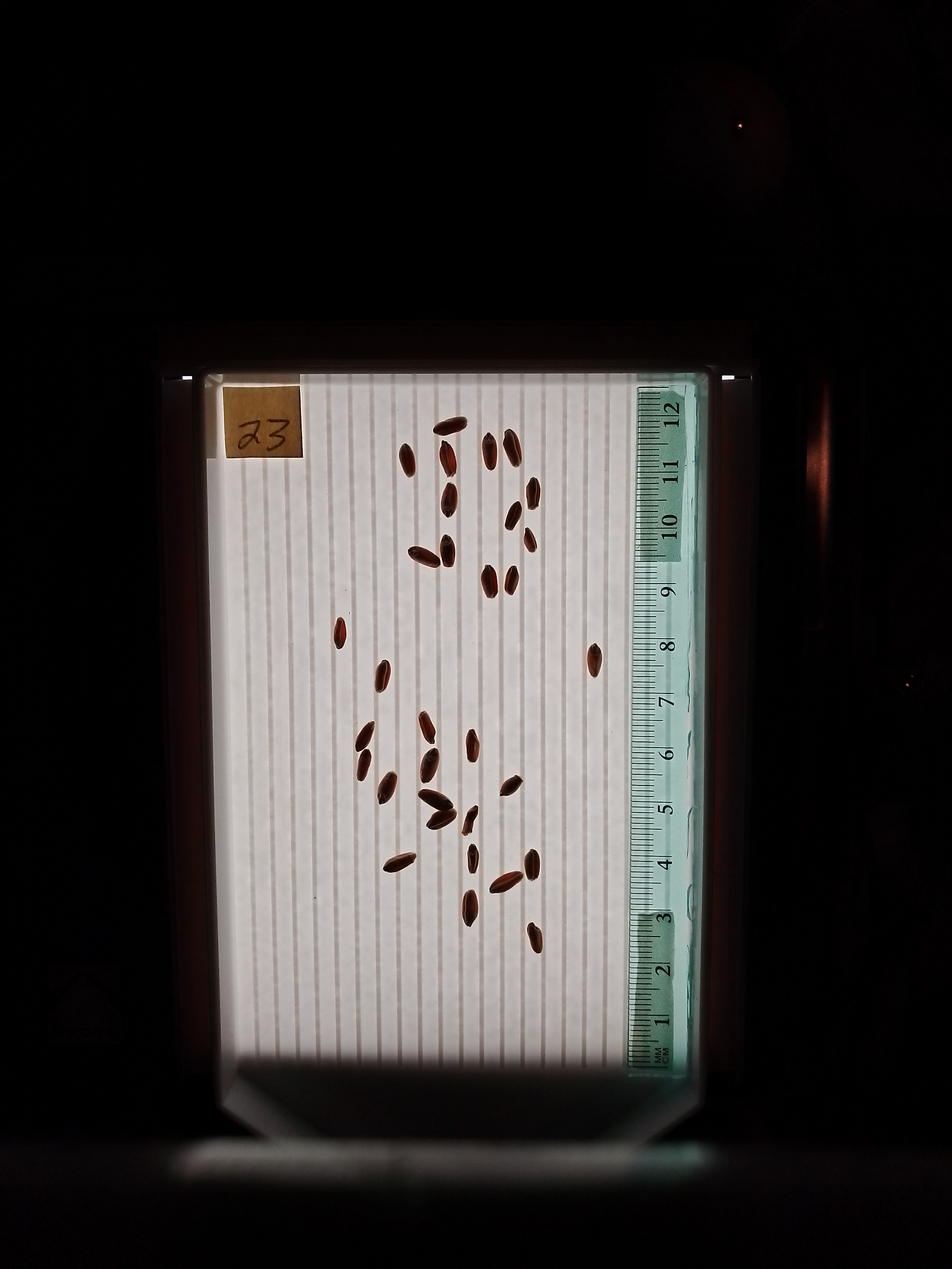seed mask: (503, 429, 522, 467), (433, 416, 467, 437), (419, 790, 452, 811), (409, 546, 440, 568), (491, 872, 522, 893), (420, 749, 439, 783), (427, 808, 456, 830), (384, 852, 415, 872), (440, 442, 457, 477), (378, 773, 397, 804), (482, 434, 498, 470), (355, 722, 374, 752), (441, 483, 458, 516), (481, 565, 498, 598), (462, 891, 478, 926), (418, 712, 436, 743), (399, 444, 416, 476), (375, 661, 391, 693), (524, 851, 541, 880), (500, 775, 522, 797), (526, 478, 541, 510), (440, 536, 455, 567), (587, 645, 602, 676), (528, 924, 543, 953), (357, 750, 371, 781), (466, 730, 479, 762), (505, 566, 519, 595), (506, 503, 521, 530), (334, 618, 347, 648), (524, 529, 536, 553)
